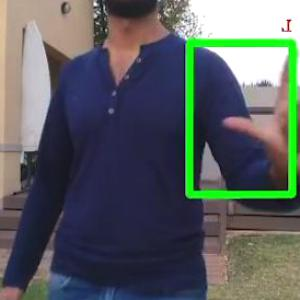land_hand: (217, 40, 299, 180)
